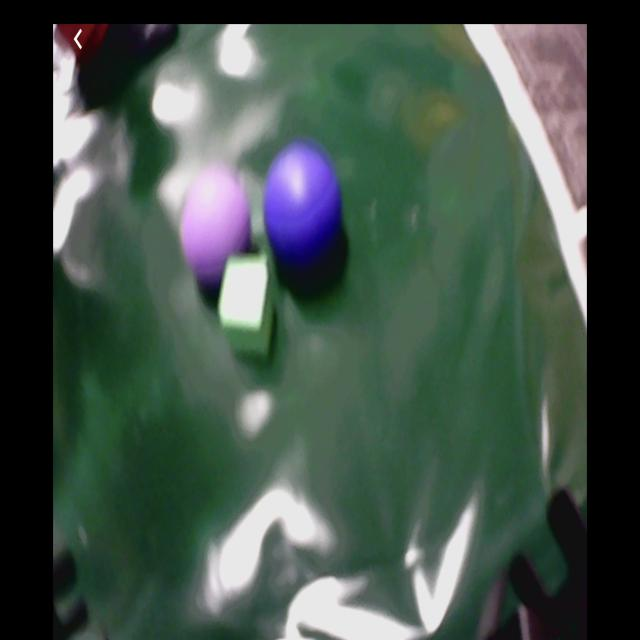ball: (265, 142, 343, 266), (181, 168, 250, 283)
